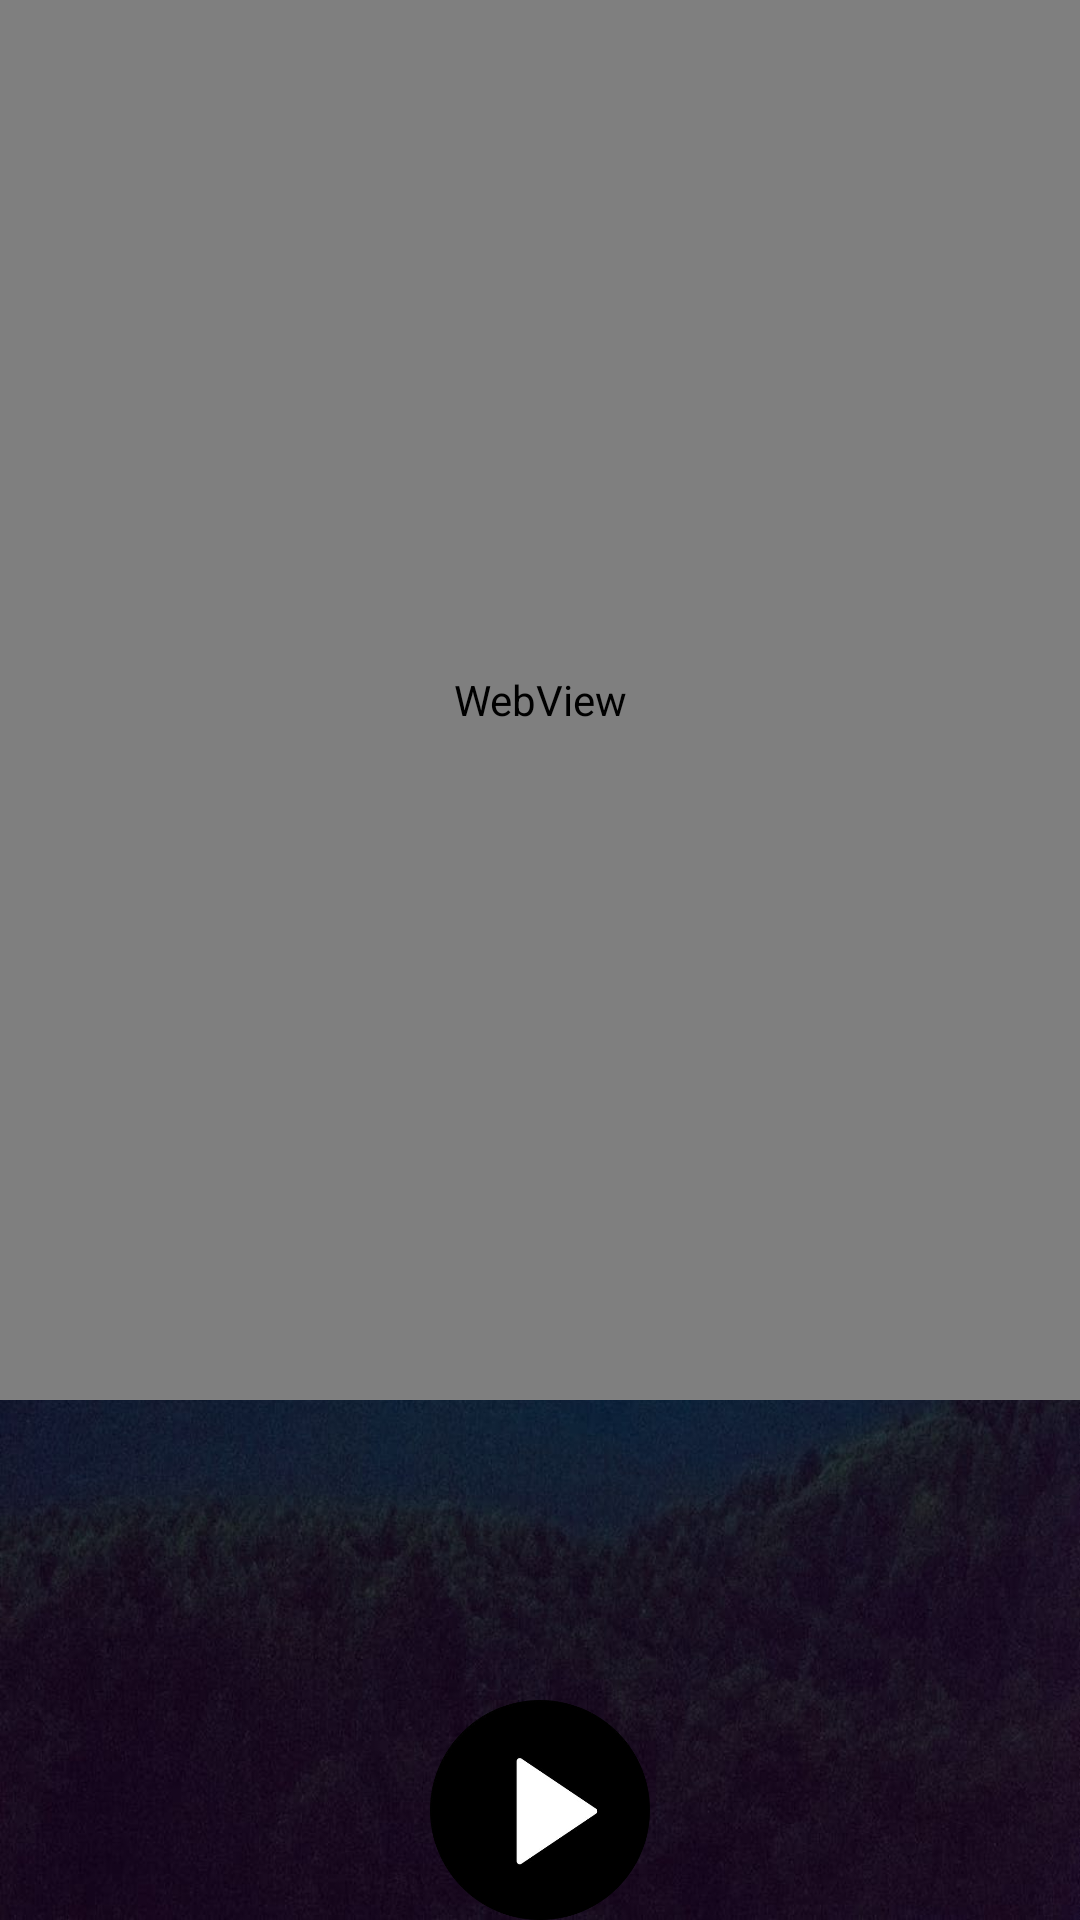

Locate icon controls on the screen. Image size 1080x1920, boxes as (x1, y1, x2, y2).
play: (430, 1700, 650, 1920)
